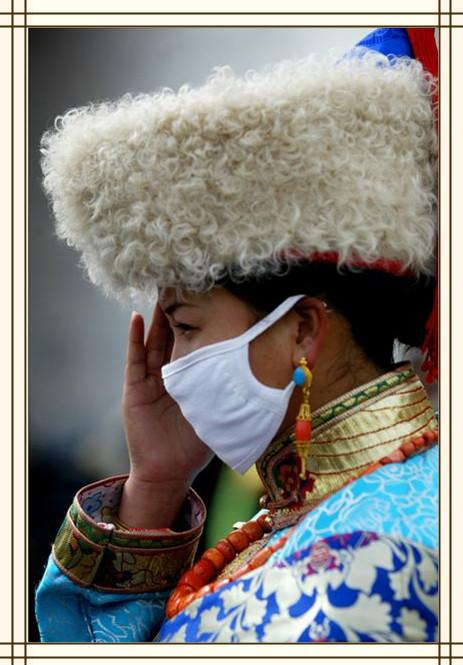OK: (163, 291, 330, 458)
